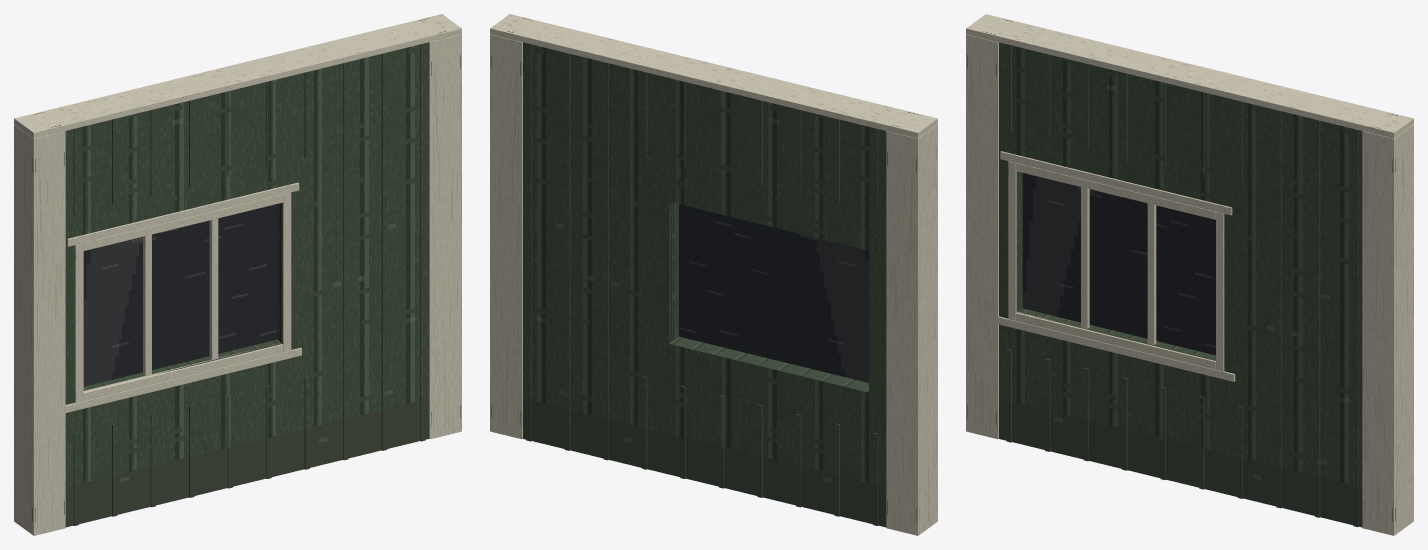
The model's file is house_04_wall_window.glb.
The picture shows the model from 3 angles, left to right: view 1: azimuth 30°, elevation 25°; view 2: azimuth 150°, elevation 25°; view 3: azimuth 330°, elevation 25°; orthographic projection.
Parts seen in each view (by area): view 1: house_04_wall_window; view 2: house_04_wall_window; view 3: house_04_wall_window.
Boxes of the visible parts, x1=… form: house_04_wall_window: x1=14, y1=14, x2=461, y2=535; house_04_wall_window: x1=490, y1=14, x2=937, y2=535; house_04_wall_window: x1=966, y1=14, x2=1413, y2=535.
Bounding box in the file's own units: 3 × 2.7 × 0.24.
3 materials, 3 textured.
